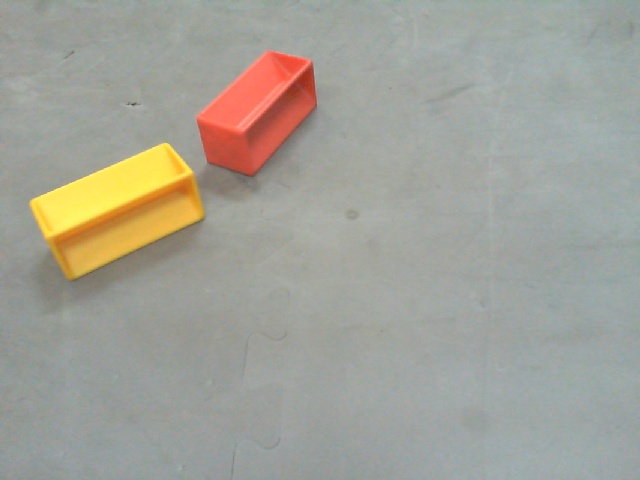RedSample: (196, 48, 319, 182)
YellowSample: (28, 140, 206, 282)
